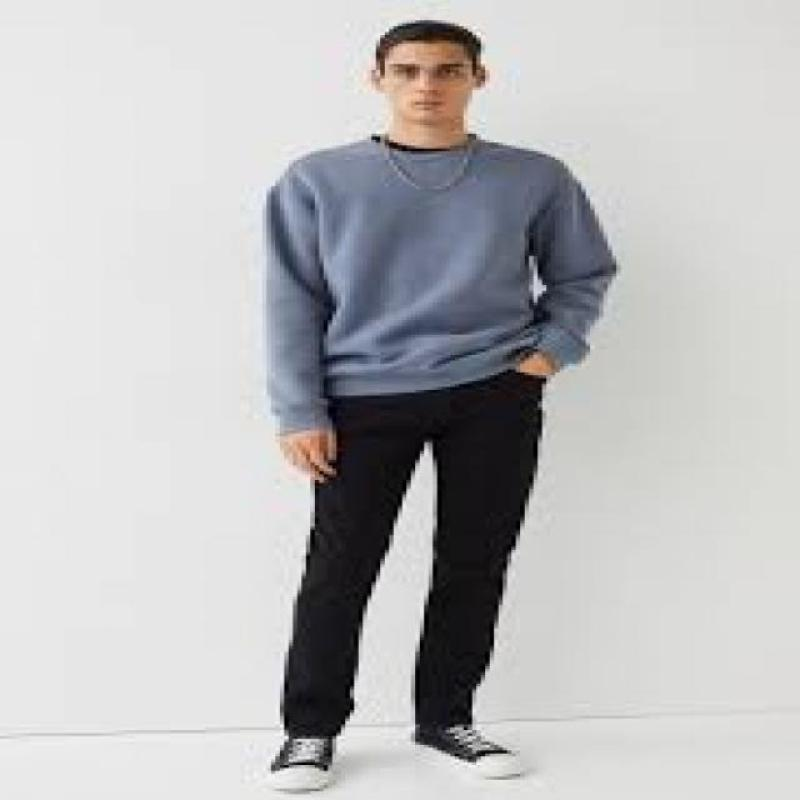sweater: (258, 135, 620, 434)
trousers: (276, 362, 547, 741)
